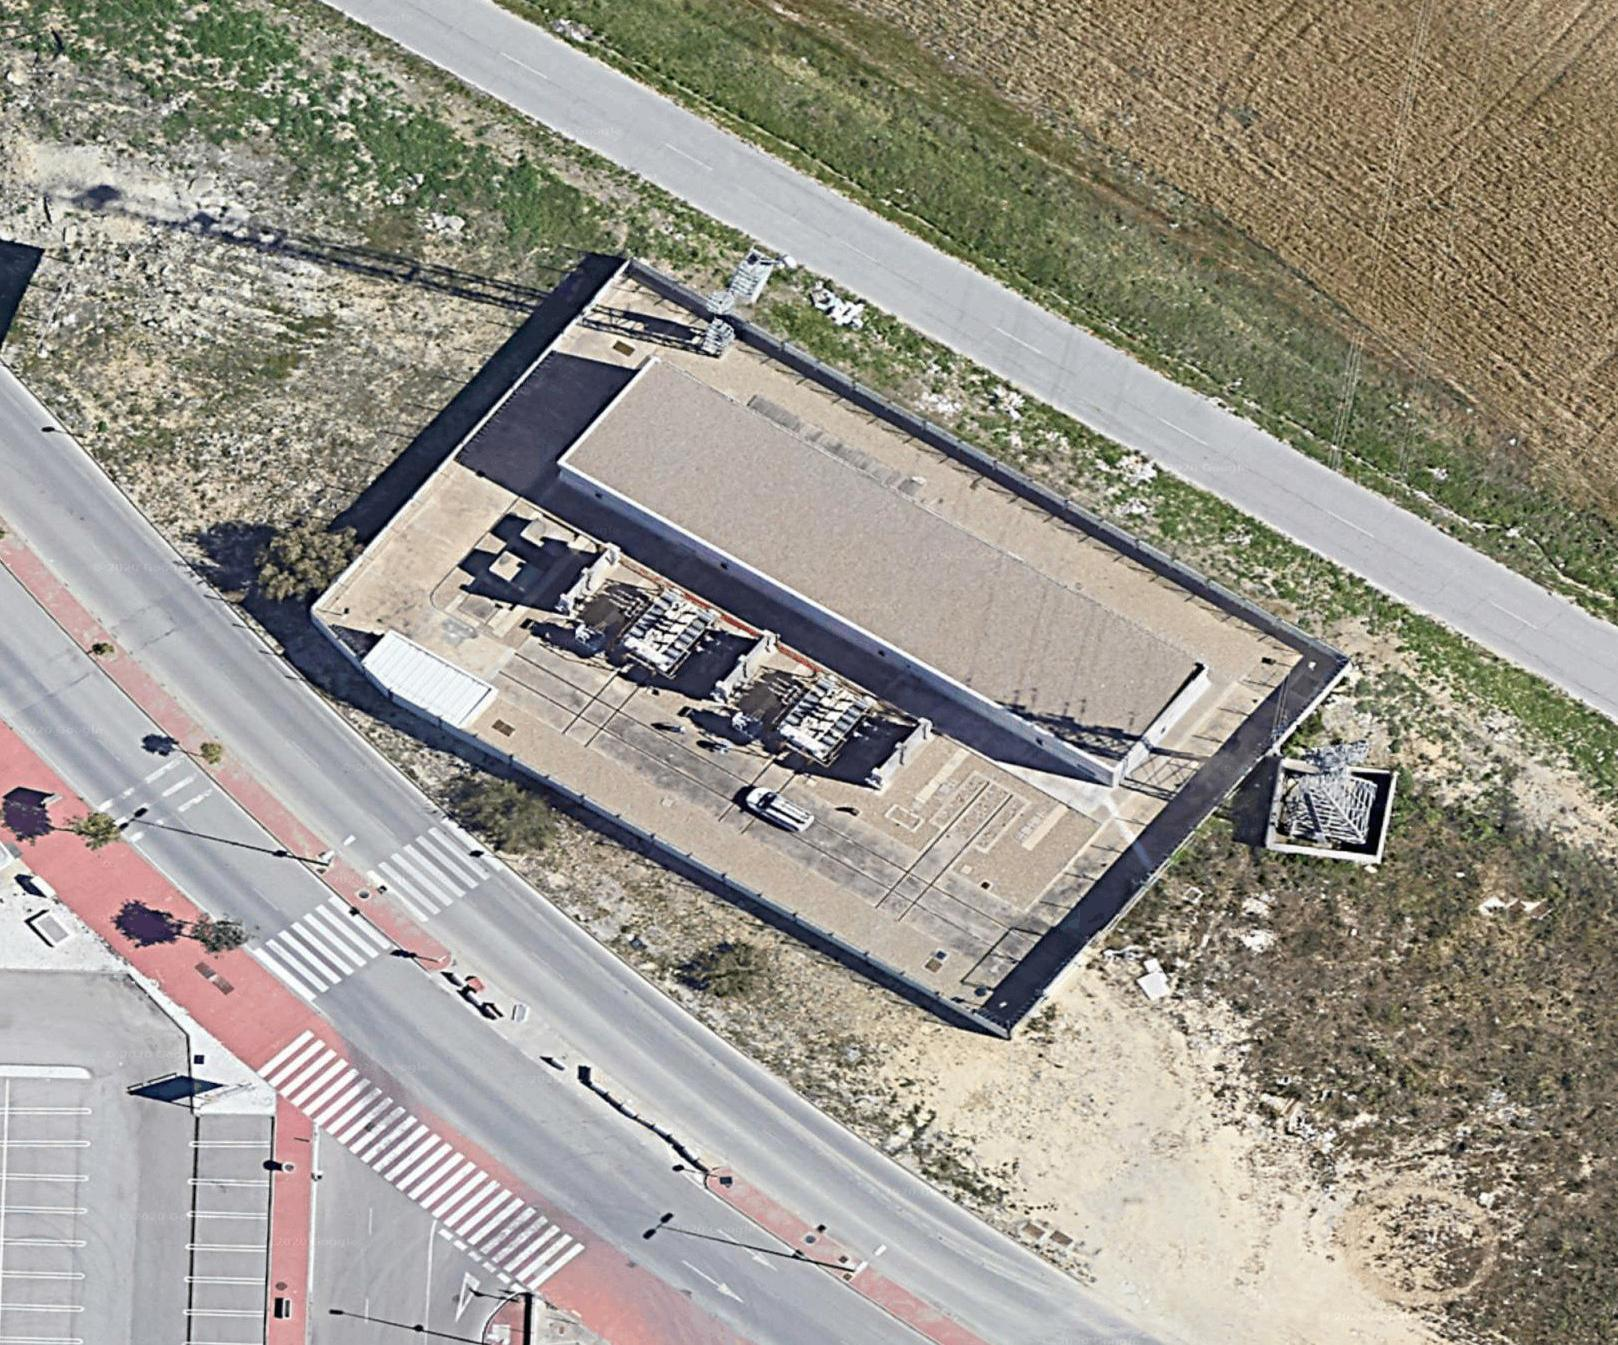substation: (452, 504, 934, 801)
